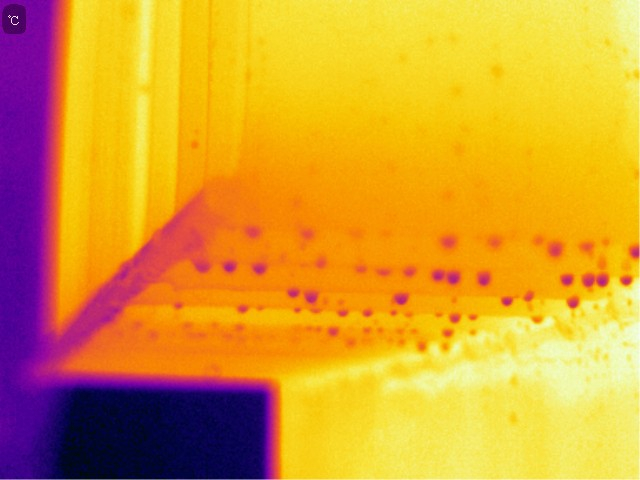Water: (531, 229, 567, 261), (287, 284, 319, 308), (473, 266, 495, 290), (337, 307, 380, 319), (191, 257, 217, 276), (219, 256, 242, 277), (560, 295, 589, 311), (250, 256, 271, 278), (446, 264, 463, 289), (557, 271, 579, 288), (435, 326, 457, 343), (313, 252, 334, 269), (613, 273, 636, 288), (324, 323, 342, 341), (402, 261, 418, 280), (392, 292, 412, 307), (445, 311, 466, 325), (521, 287, 538, 304), (582, 270, 595, 290), (432, 265, 445, 283), (498, 296, 516, 308), (525, 315, 549, 324), (599, 271, 610, 289), (234, 303, 250, 315)
